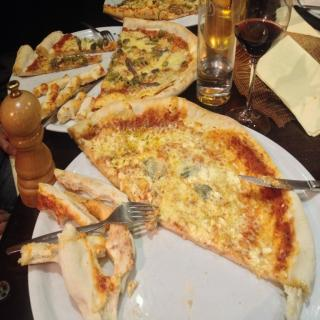Pizza: (73, 100, 297, 301), (95, 16, 200, 109), (34, 62, 105, 118), (14, 44, 102, 81), (34, 30, 115, 56), (104, 0, 197, 20)
